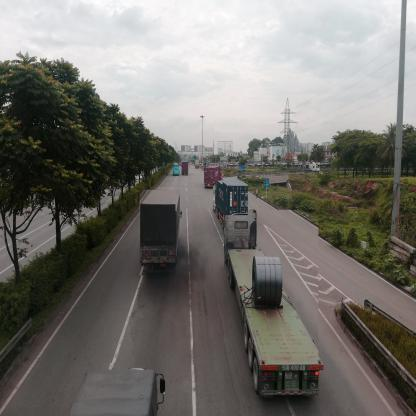bus: (173, 166, 181, 177)
container: (225, 211, 320, 396), (214, 180, 249, 217), (203, 169, 224, 185), (307, 162, 321, 173), (183, 163, 190, 176)
truck: (71, 364, 166, 416), (141, 191, 177, 277)
